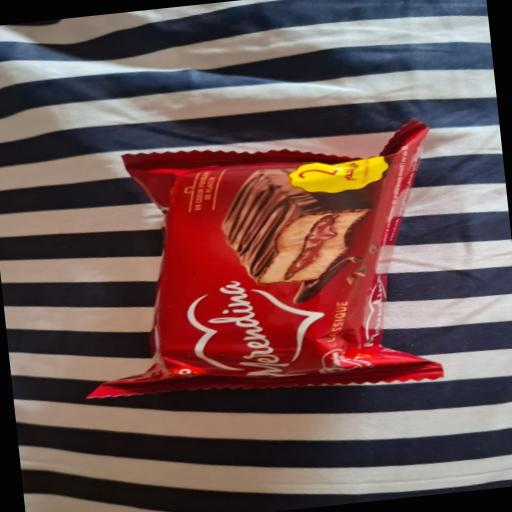merendina: (77, 96, 512, 471)
